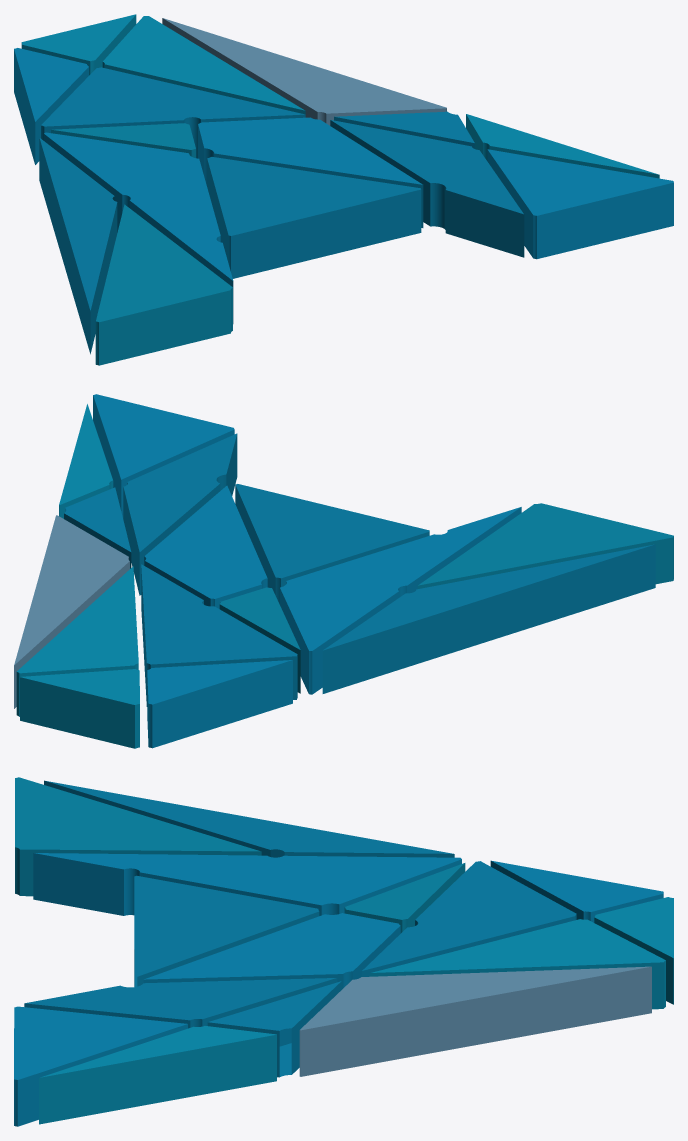
The model's file is asset.glb.
The picture shows the model from 3 angles, top to bottom: view 1: azimuth 30°, elevation 25°; view 2: azimuth 150°, elevation 25°; view 3: azimuth 270°, elevation 25°; orthographic projection. The views are drawn at different scales.
Visible parts, largest first — view 1: Plane.011, Plane.010, Plane.001, Plane.009, Plane.013, Plane.006, Plane.012, Plane.008, Plane.002, Plane.004, Plane.003, Plane.015 (+3 smaller); view 2: Plane.008, Plane.009, Plane.011, Plane.010, Plane.003, Plane.006, Plane.012, Plane.002, Plane.013, Plane.005, Plane.001, Plane.004 (+3 smaller); view 3: Plane.002, Plane.009, Plane.015, Plane.010, Plane.011, Plane.012, Plane.006, Plane.004, Plane.001, Plane.013, Plane.008, Plane.003 (+3 smaller).
Part boxes in pixels (x1,y1,x2,y2): Plane.011: (207,157,421,278); Plane.010: (95,204,232,365); Plane.001: (487,149,673,259); Plane.009: (44,132,233,323); Plane.013: (330,120,524,257); Plane.006: (41,67,305,158); Plane.012: (198,117,423,227); Plane.008: (39,137,117,354); Plane.002: (162,18,446,125); Plane.004: (102,16,305,114); Plane.003: (14,48,88,164); Plane.015: (466,114,659,178); Plane.008: (322,544,655,693); Plane.009: (280,507,521,694); Plane.011: (235,484,429,604); Plane.010: (417,503,673,588); Plane.003: (147,660,292,748); Plane.006: (141,564,297,706); Plane.012: (144,485,267,608); Plane.002: (14,515,129,708); Plane.013: (123,433,237,595); Plane.005: (20,669,139,748); Plane.001: (93,394,234,518); Plane.004: (16,566,138,716); Plane.002: (299,966,651,1076); Plane.009: (33,853,461,915); Plane.015: (39,1026,276,1124); Plane.010: (15,777,261,896); Plane.011: (134,875,319,986); Plane.012: (143,913,400,989); Plane.006: (362,861,576,976); Plane.004: (370,919,665,1009); Plane.001: (14,1006,187,1126); Plane.013: (24,978,337,1028); Plane.008: (44,780,454,857); Plane.003: (490,860,663,922).
Size of the model in its own units: 5 by 0.3589 by 4.61.
